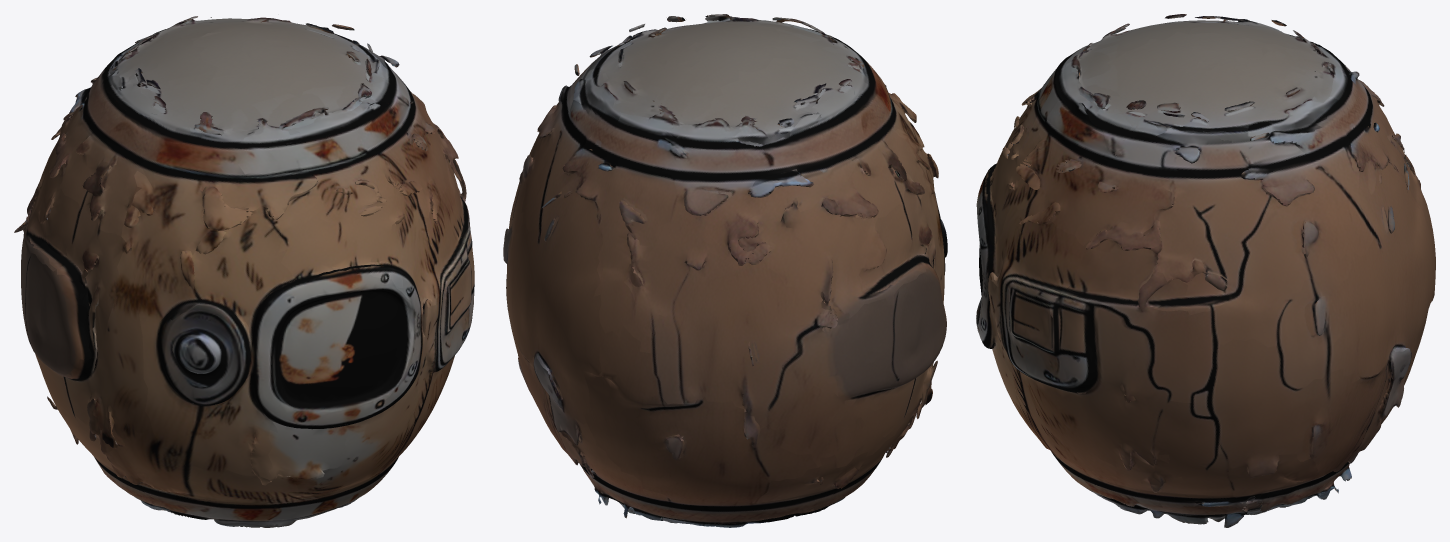
The model's file is catalog-weapon-mod-2-1.glb.
3 renders of one model, left to right at view 1: azimuth 30°, elevation 25°; view 2: azimuth 150°, elevation 25°; view 3: azimuth 270°, elevation 25°, orthographic.
Parts seen in each view (by area): view 1: tmp82fudkz8.ply; view 2: tmp82fudkz8.ply; view 3: tmp82fudkz8.ply.
Boxes of the visible parts, left/top/right/bottom form: tmp82fudkz8.ply: left=14, top=16, right=474, bottom=527; tmp82fudkz8.ply: left=503, top=14, right=947, bottom=527; tmp82fudkz8.ply: left=976, top=14, right=1435, bottom=527.
Size of the model in its own units: 1.88 by 1.96 by 1.91.
1 material, 1 textured.
